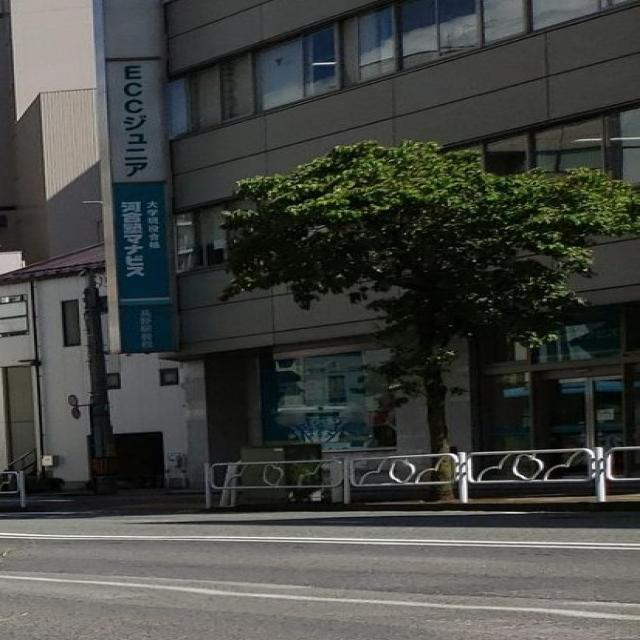dogwood: (213, 140, 640, 500)
